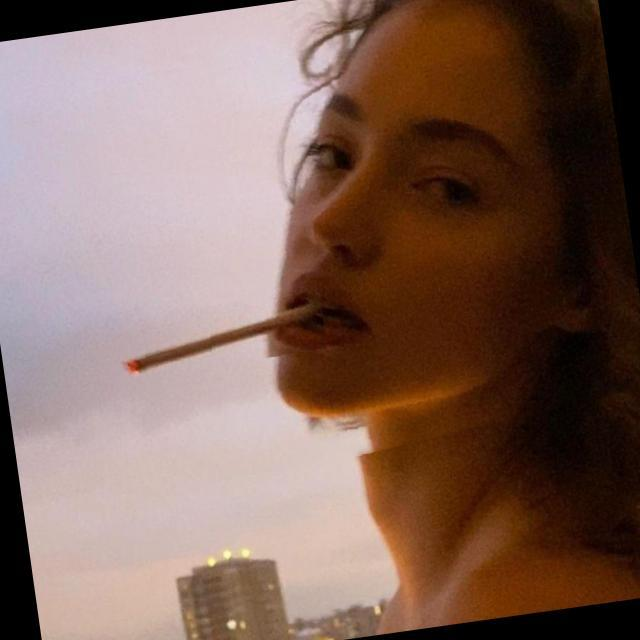cigarette: (109, 313, 328, 382)
